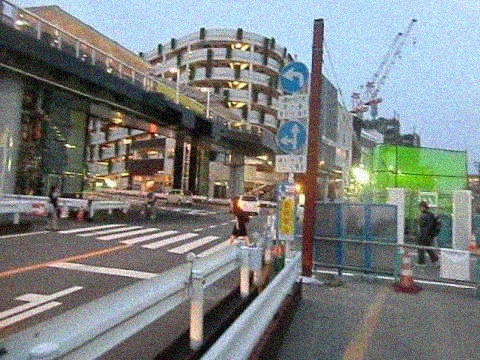Direction_sign: (273, 117, 308, 155), (279, 62, 312, 98)
